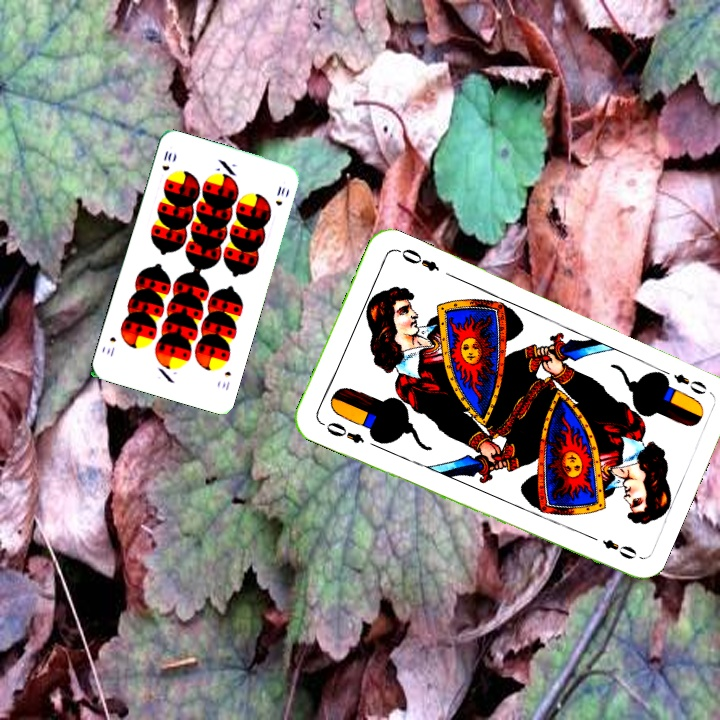EO: (655, 364, 710, 397), (317, 418, 367, 447)
S10: (158, 146, 174, 173), (218, 367, 233, 393)
